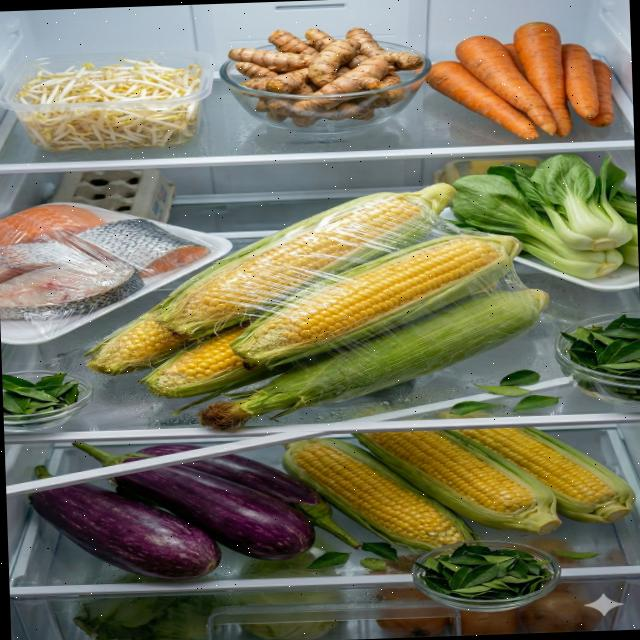bean_sprouts: (13, 53, 207, 154)
carrot: (424, 18, 615, 144)
corn: (75, 178, 555, 435), (280, 423, 638, 560)
curry_leaves: (414, 539, 559, 603), (559, 312, 640, 404), (1, 370, 80, 428)
eggplant: (25, 432, 364, 586)
fish: (0, 198, 214, 321)
pakchoy: (450, 150, 638, 284)
turmeric: (226, 24, 426, 130)
